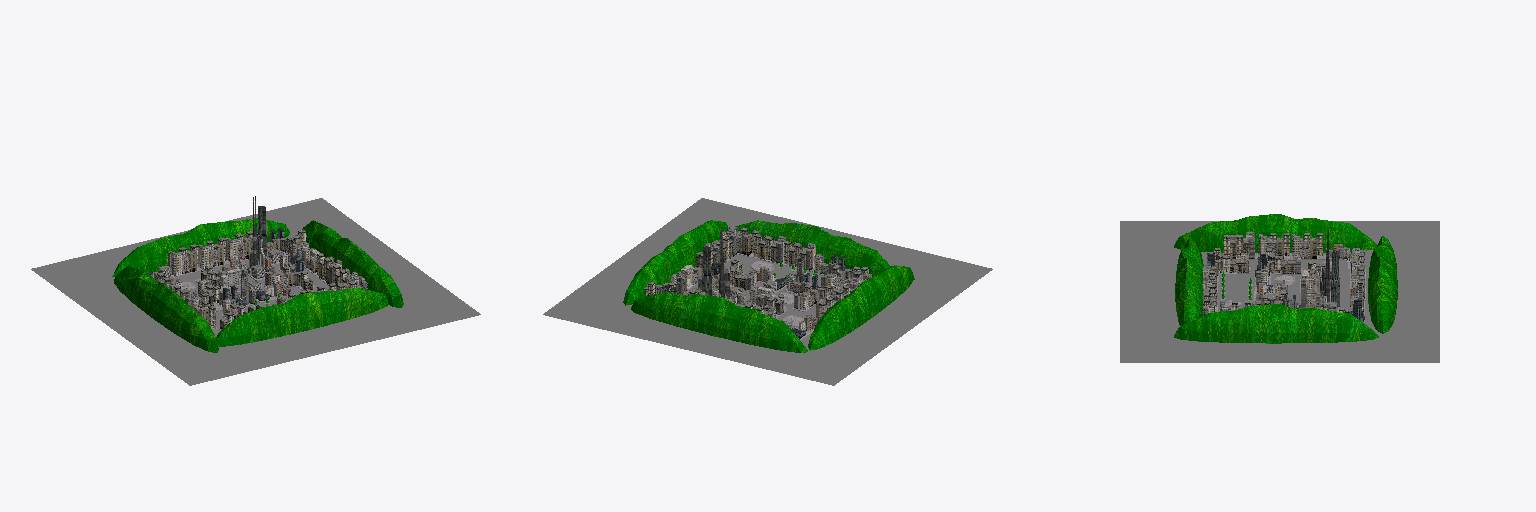
3 views of the same model, side by side, from view 1: azimuth 30°, elevation 25°; view 2: azimuth 150°, elevation 25°; view 3: azimuth 270°, elevation 25° (orthographic).
Parts seen in each view (by area): view 1: ang_The_City; view 2: ang_The_City; view 3: ang_The_City.
Part boxes in pixels (x1,y1,x2,y2): ang_The_City: (31, 196, 480, 385); ang_The_City: (543, 198, 992, 385); ang_The_City: (1120, 214, 1439, 362).
Bounding box in the file's own units: 5094 × 1311 × 4832.
1 materials, 1 textured.